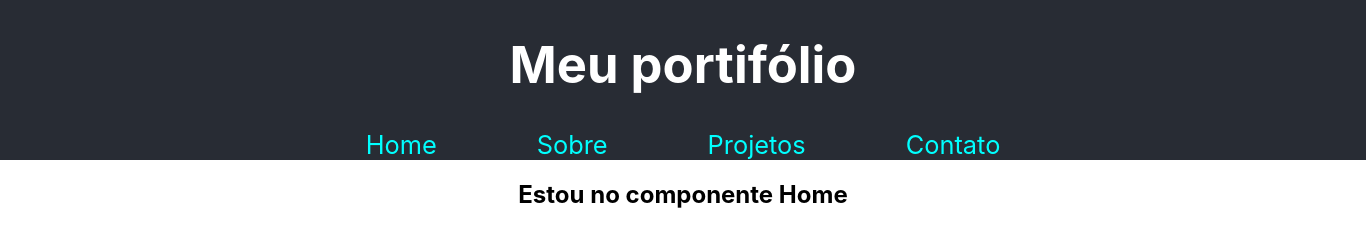
it: Teste das rotas da aplicação › Verifica se o componente "About" é renderizado após o direcionamento
Click the link "Sobre" at coordinates (572, 144), box [537,129,608,160]
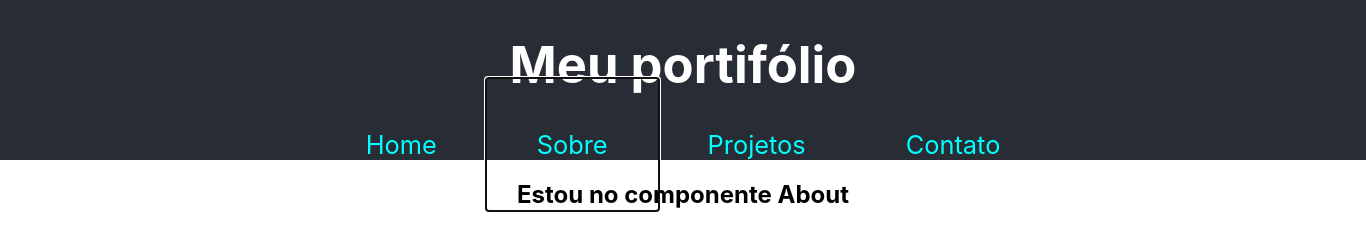
Check: the heading "Estou no componente About" is shown, box [517,180,849,209]
